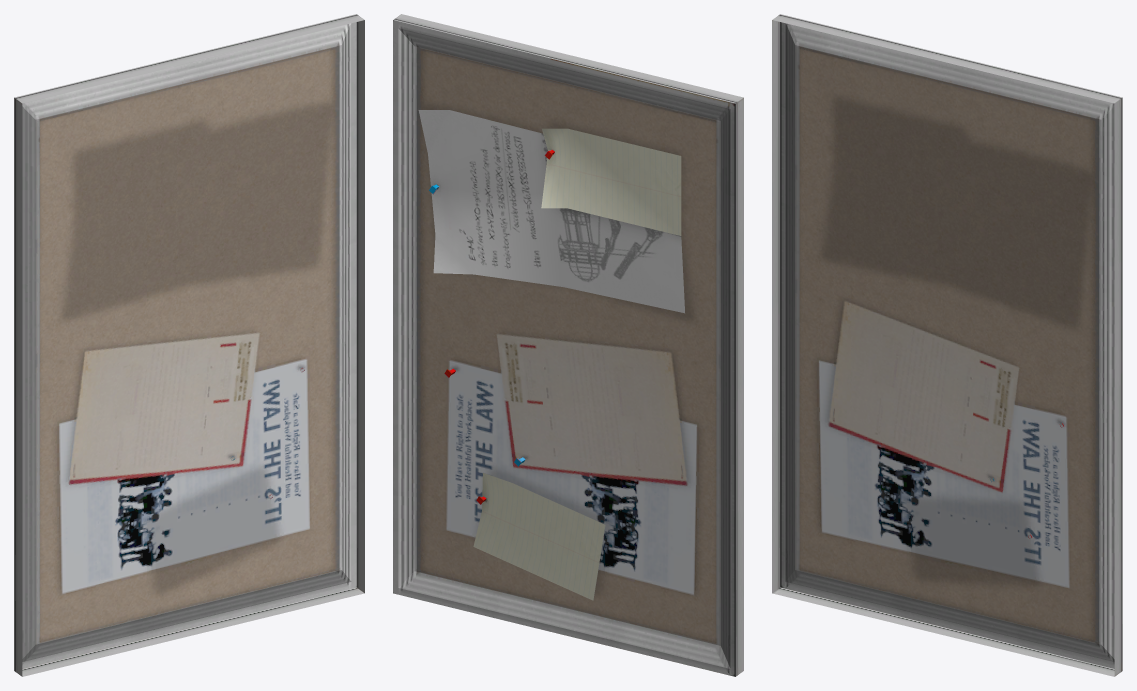
The model's file is props_spytech_corkboard01.glb.
The picture shows the model from 3 angles, left to right: view 1: azimuth 30°, elevation 25°; view 2: azimuth 150°, elevation 25°; view 3: azimuth 330°, elevation 25°; orthographic projection.
Visible parts, largest first — view 1: models/props_spytech/corkboard01; view 2: models/props_spytech/corkboard01; view 3: models/props_spytech/corkboard01.
Part boxes in pixels (box(x1,y1,x2,y2)): models/props_spytech/corkboard01: box(14, 14, 364, 676); models/props_spytech/corkboard01: box(393, 14, 743, 676); models/props_spytech/corkboard01: box(772, 14, 1122, 676).
Size of the model in its own units: 50 by 80 by 3.04.
Materials: 1 (1 with a texture image).
